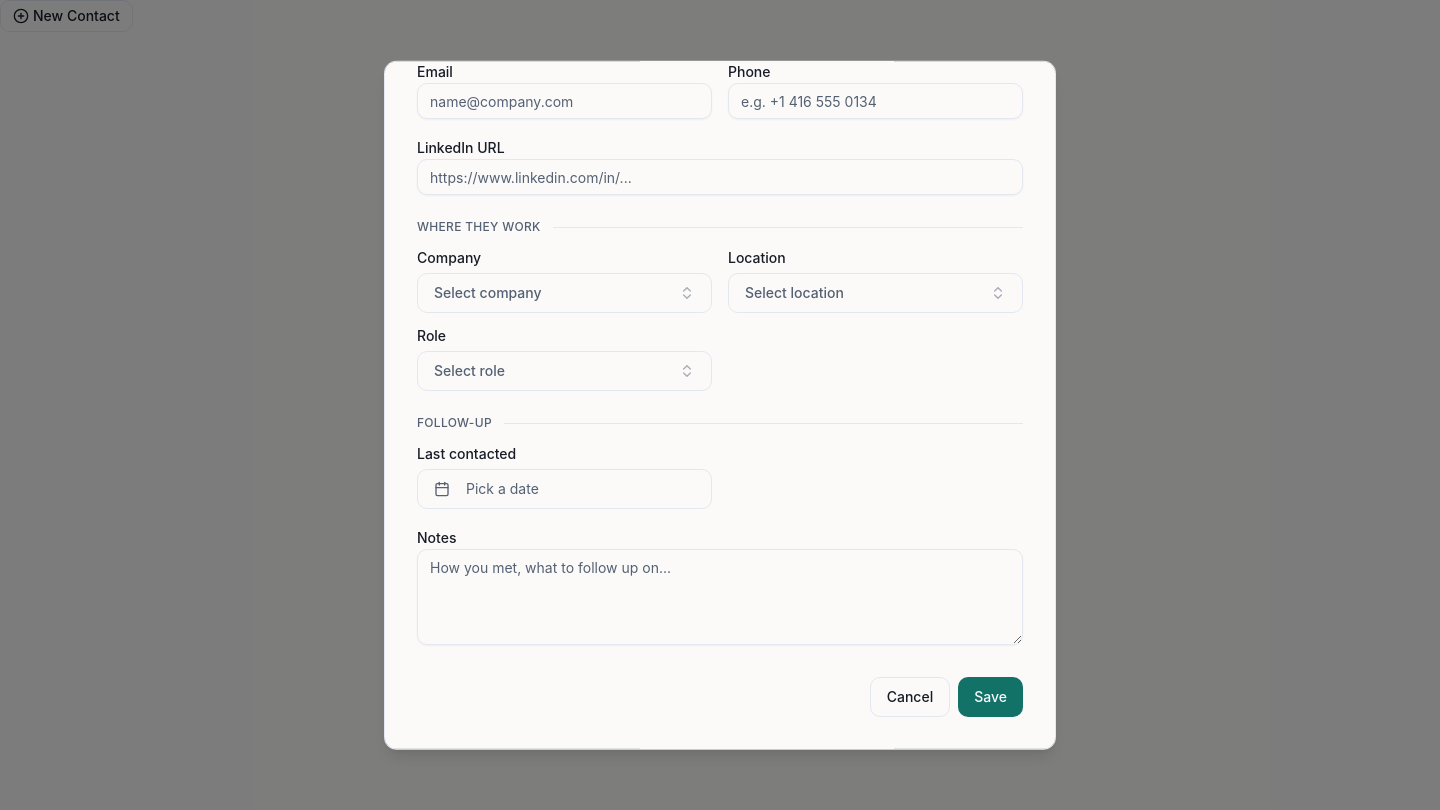
Test: AddContact › blocks a save with no name
(page scrolled)
Click the button "Save": (991, 697) [958,677,1023,717]
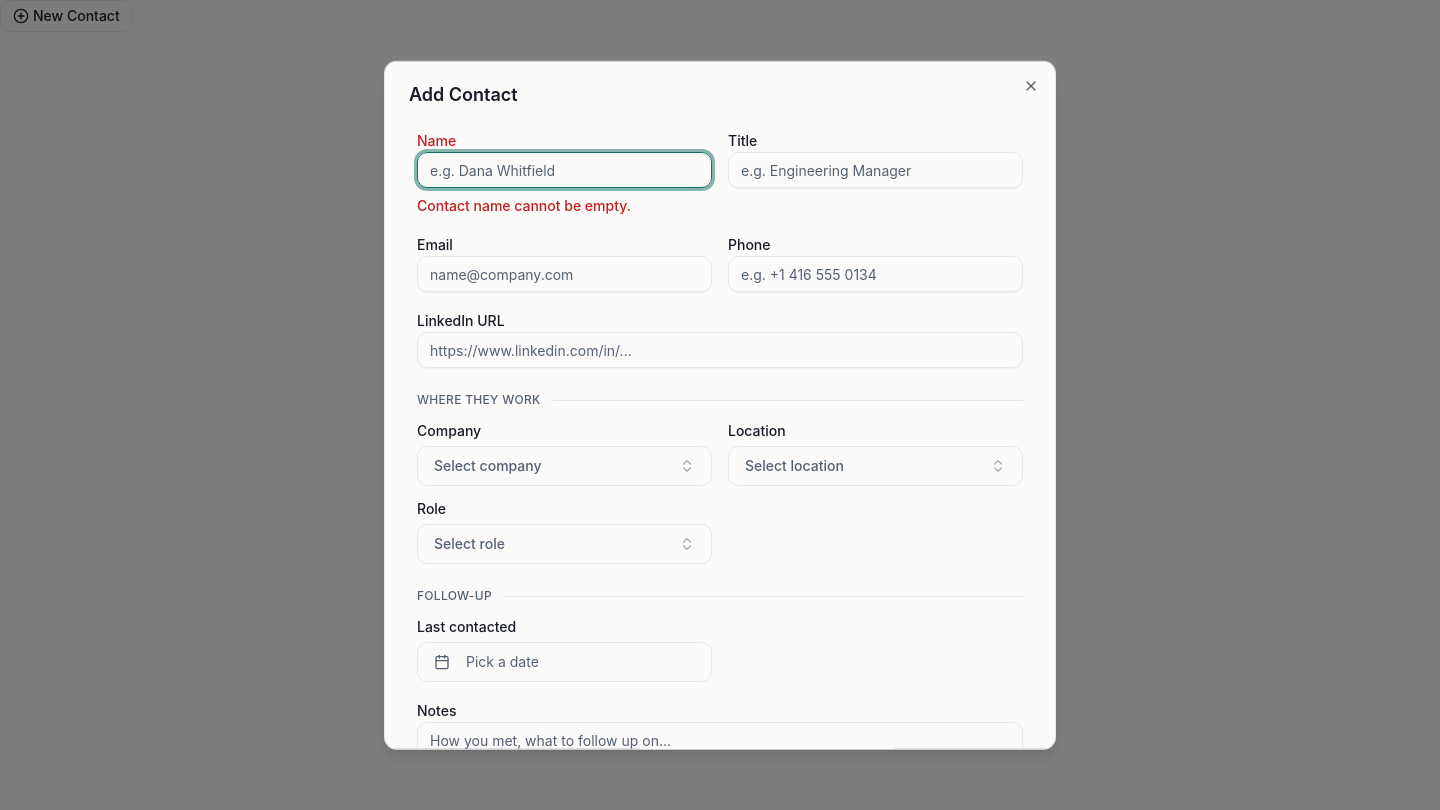
Expected: the text "Contact name cannot be empty." is shown, [417,197,631,214]
